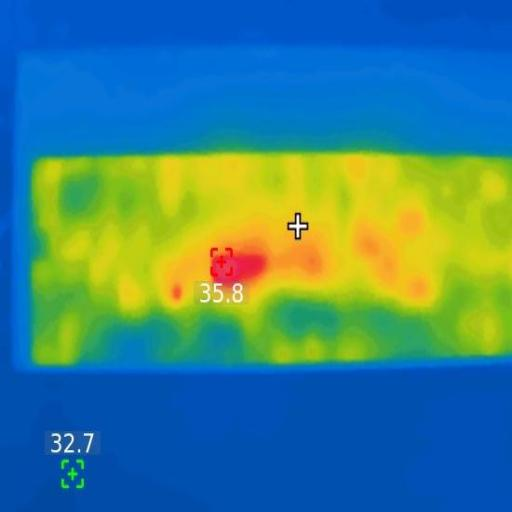hotspot: (212, 252, 266, 283)
